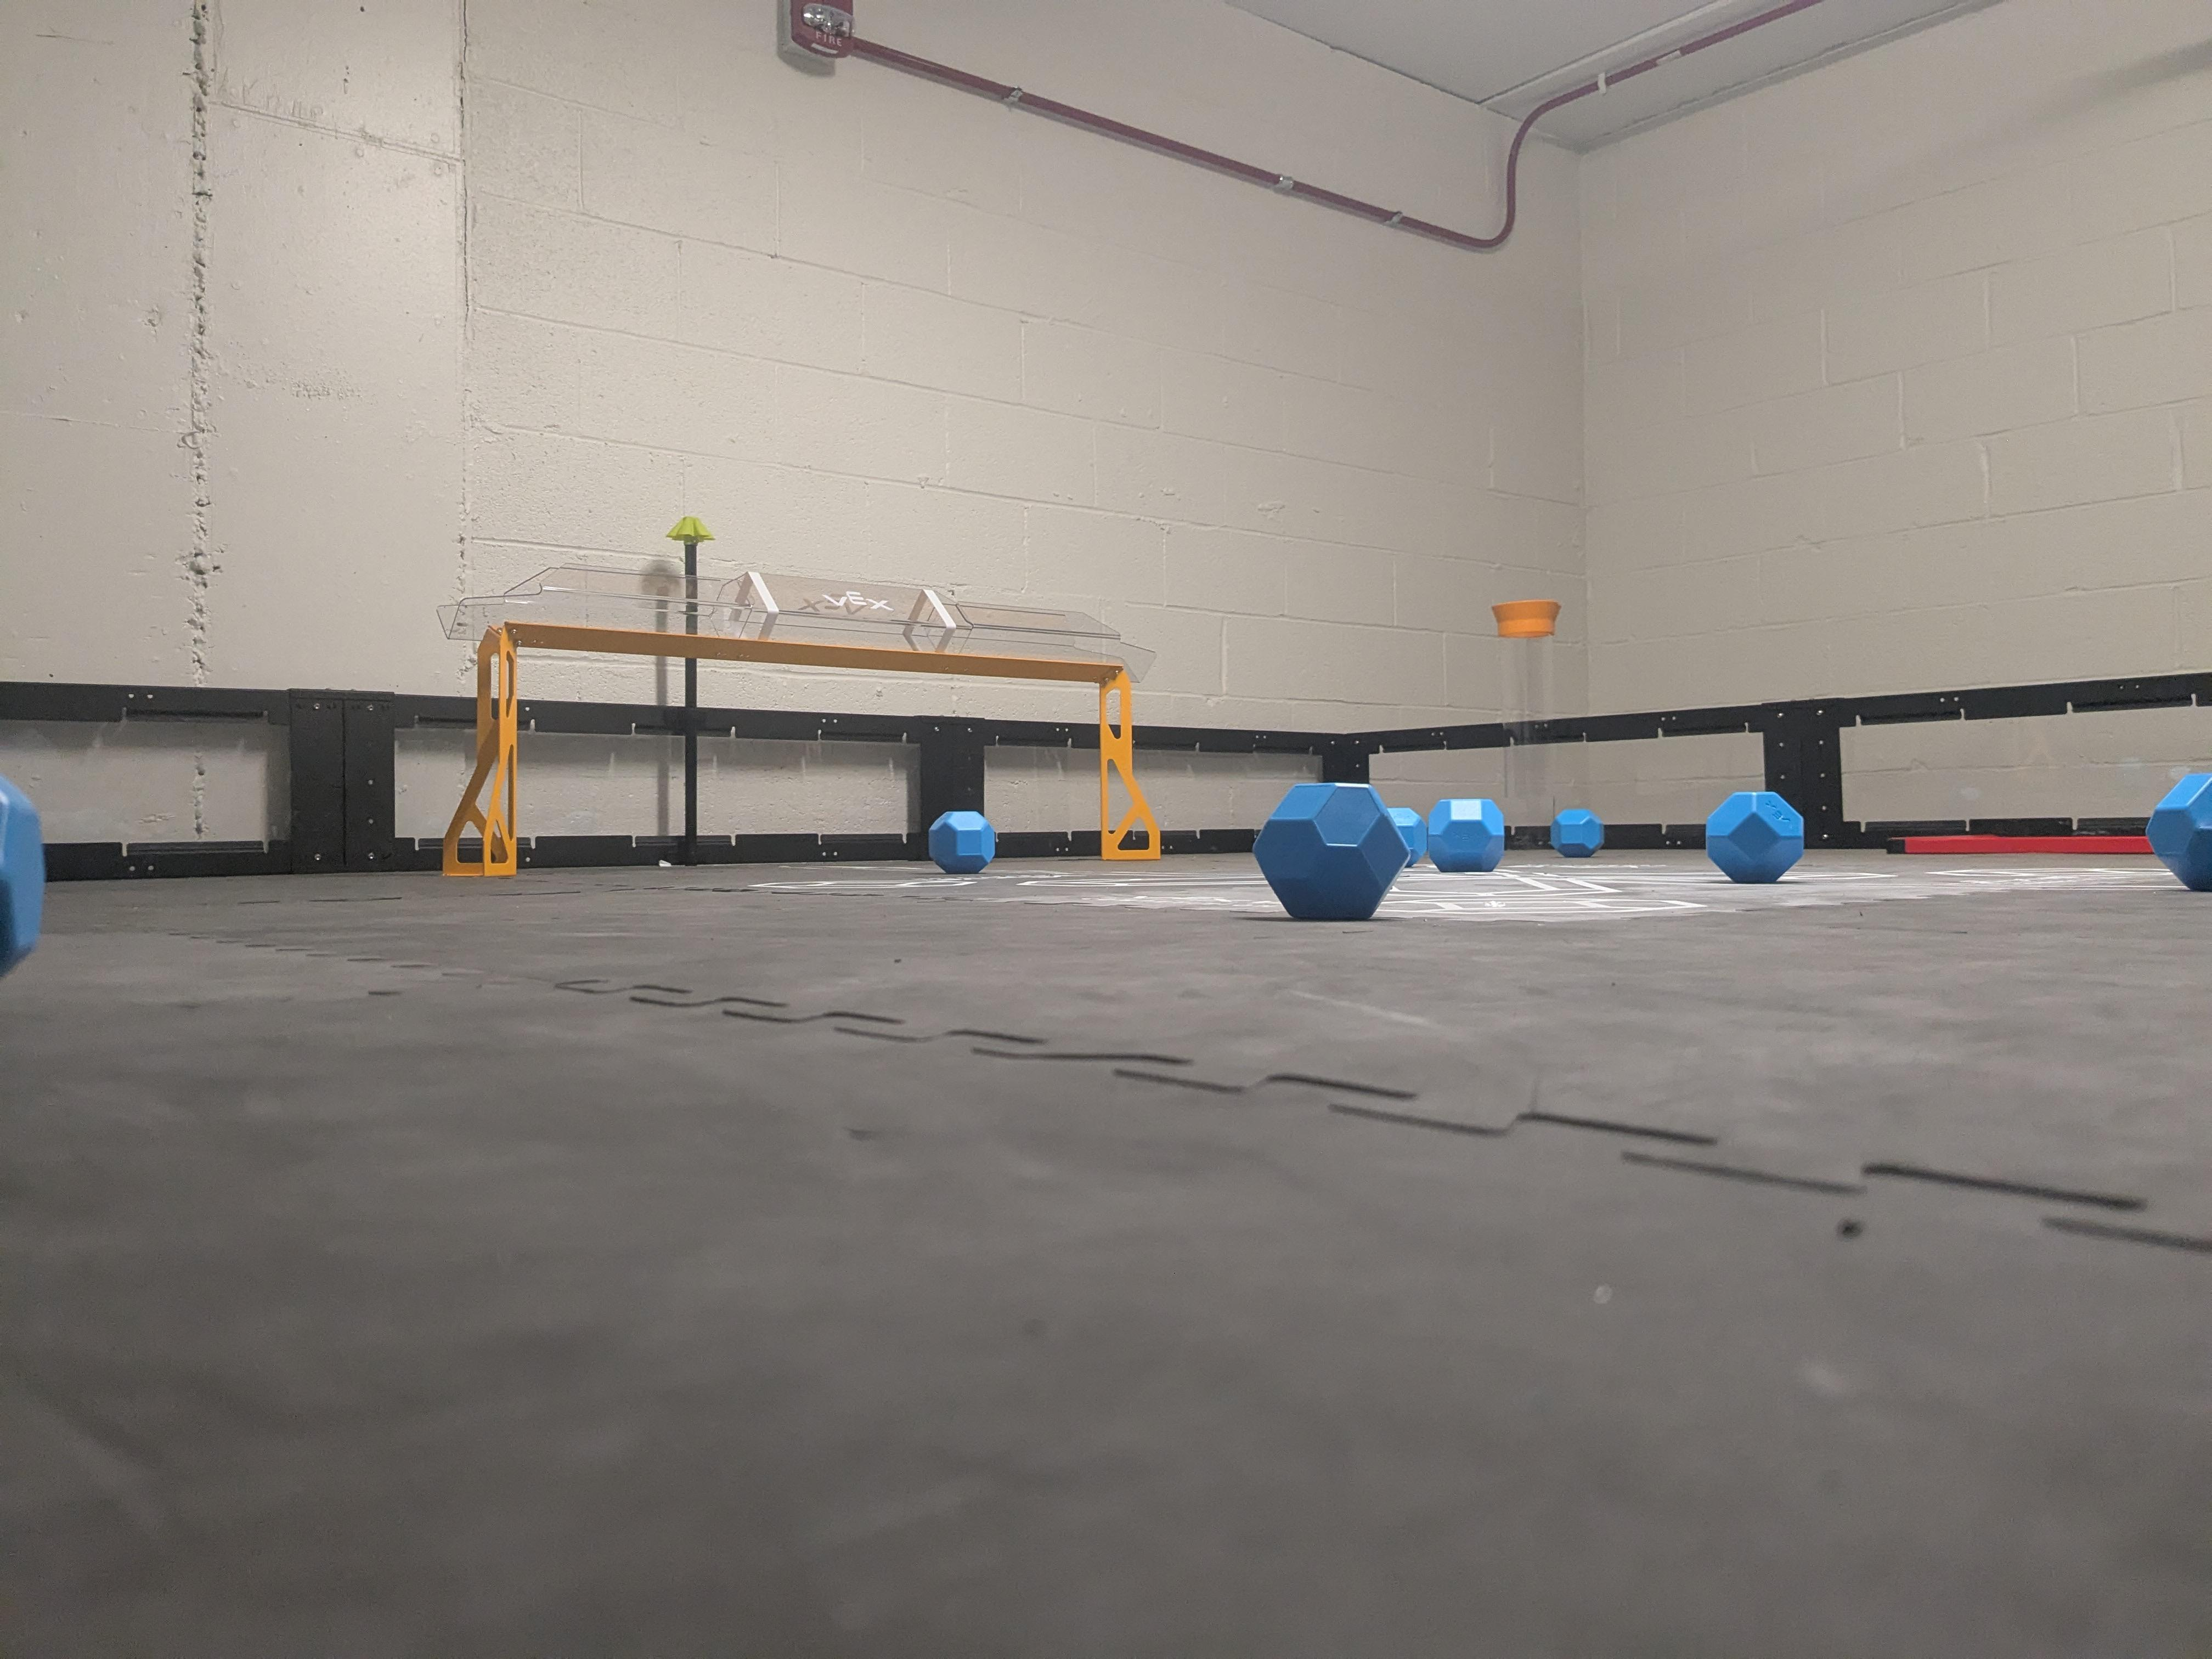Vex-Pieces-BLUE: (1254, 782, 1447, 915), (1703, 793, 1806, 878), (3, 777, 40, 974), (2153, 772, 2207, 892), (1426, 798, 1505, 871), (925, 810, 991, 868), (1548, 814, 1599, 857)
